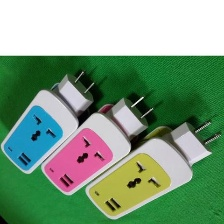three_eye_plug: (79, 113, 224, 222), (38, 92, 159, 198), (0, 65, 100, 177)
